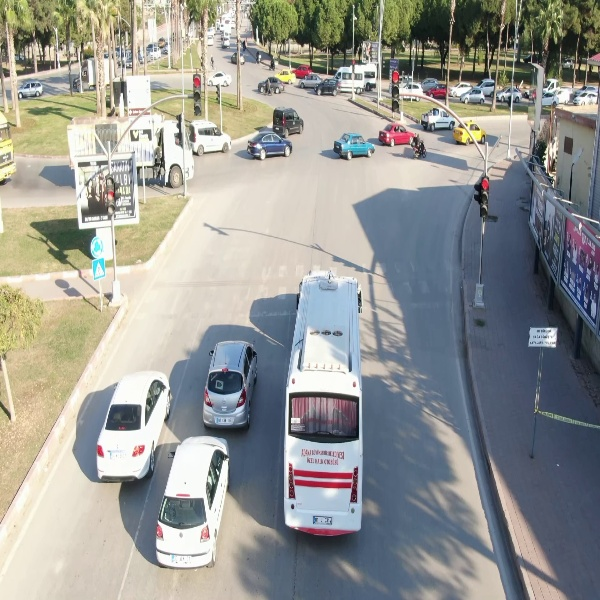car: (279, 268, 368, 544), (154, 434, 234, 571), (90, 366, 173, 487), (200, 337, 259, 434), (186, 118, 232, 157), (245, 130, 294, 161), (331, 132, 376, 161), (270, 106, 305, 137), (377, 121, 415, 149), (419, 108, 457, 134), (15, 77, 47, 99), (313, 77, 343, 98), (460, 85, 486, 104), (206, 69, 232, 88)
